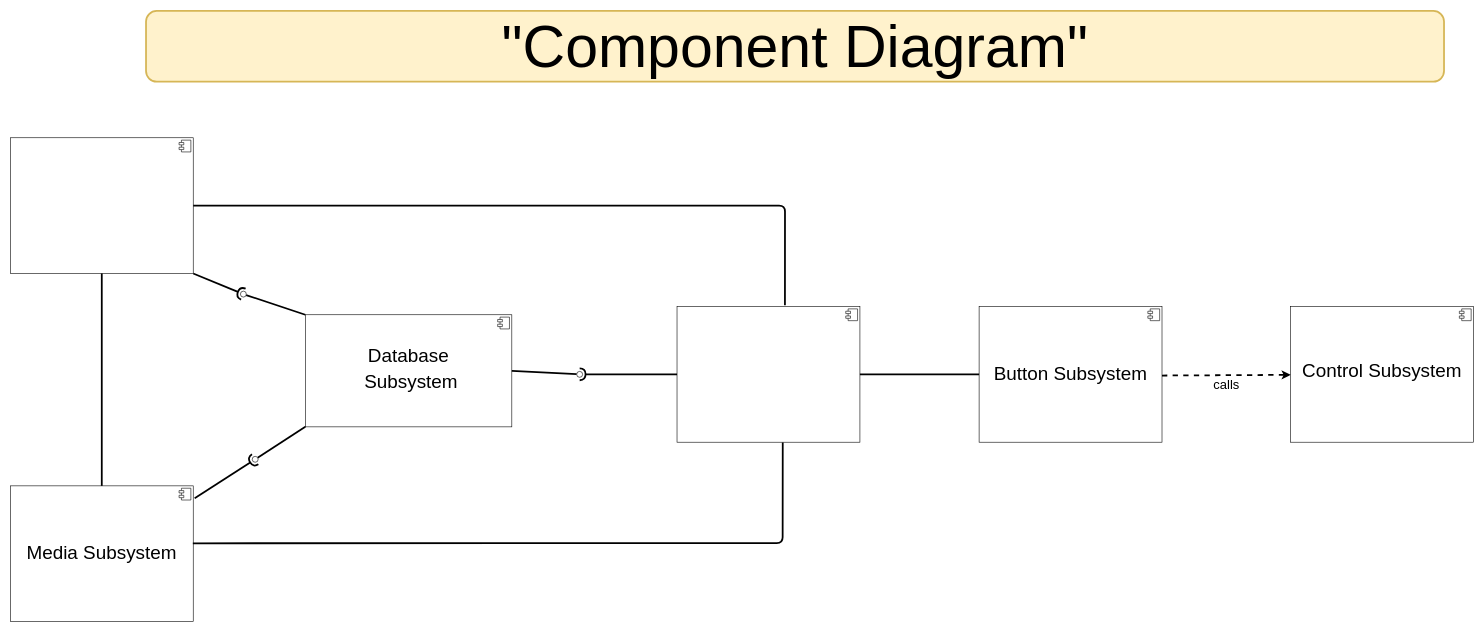
Some shapes in this 1484 by 632 pixel diagram are drawn without their labels. The shapes that lost their labels are listed below. From the top down, each one's box as (x1, y1, x2, y2) in pixels, then its label:
(10, 137, 193, 273): Playlist Subsystem
(676, 306, 860, 442): User Subsystem
